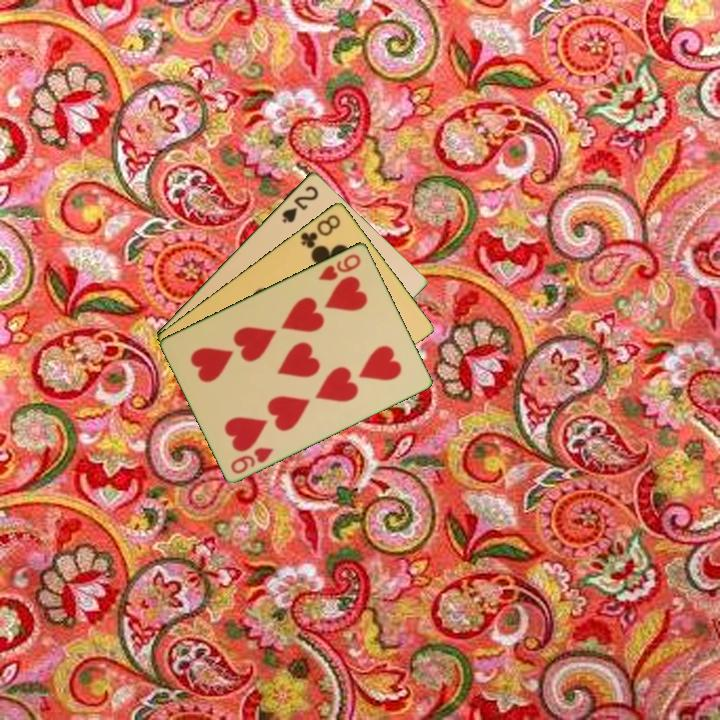2s: (278, 182, 321, 226)
8c: (297, 210, 343, 251)
9h: (227, 443, 276, 477), (314, 250, 364, 283)
